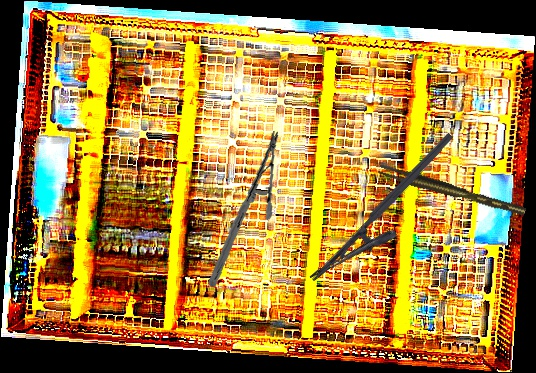Needle Holder: (308, 131, 474, 302), (193, 130, 295, 288)
Tissue Forceps: (377, 158, 527, 224)
